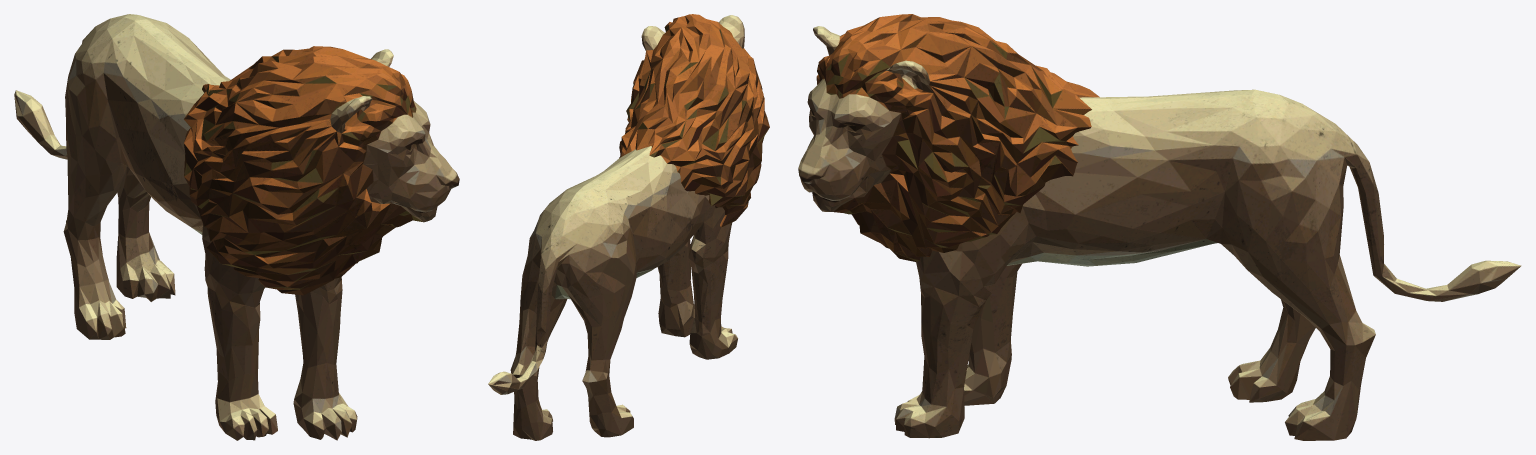
The model's file is lion.fbx.
3 views of the same model, side by side, from view 1: azimuth 30°, elevation 25°; view 2: azimuth 150°, elevation 25°; view 3: azimuth 270°, elevation 25° (orthographic). The views are drawn at different scales.
Visible parts, largest first — view 1: node_id30; view 2: node_id30; view 3: node_id30.
Boxes of the visible parts, box(x1,y1,x2,y2) form: node_id30: box(14, 14, 459, 440); node_id30: box(488, 14, 769, 440); node_id30: box(798, 14, 1521, 440).
Bounding box in the file's own units: 0.2555 × 0.512 × 0.8312.
1 material, 1 textured.
